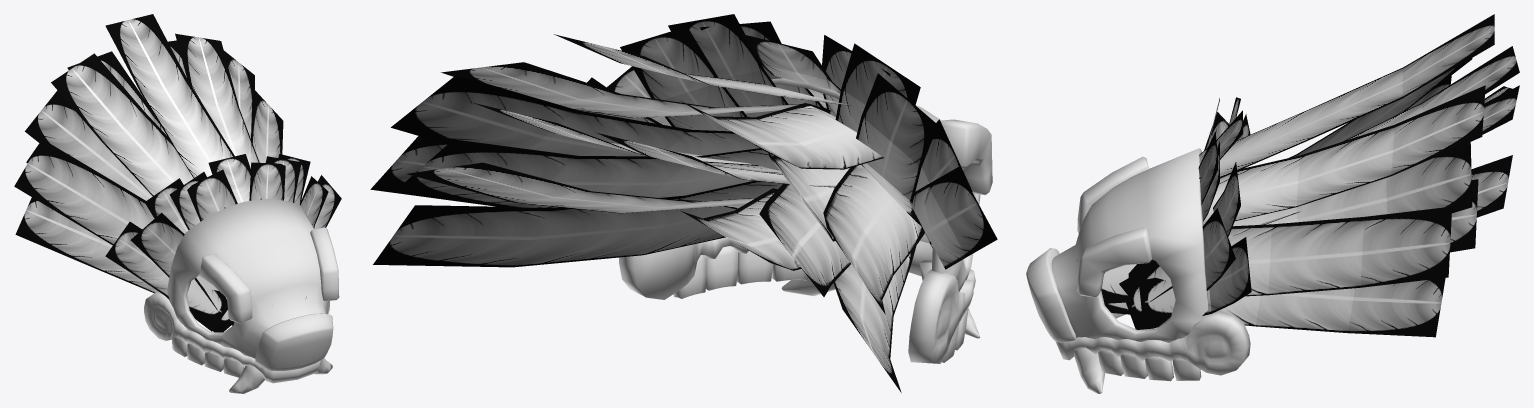
File: TEMP_Mask.fbx
3 views of the same model, side by side, from view 1: azimuth 30°, elevation 25°; view 2: azimuth 150°, elevation 25°; view 3: azimuth 270°, elevation 25° (orthographic). The views are drawn at different scales.
Visible parts, largest first — view 1: Mask_Base_low, FeatherBig.005, FeatherBig.007, FeatherBig.002, FeatherBig.006, FeatherBig.001, Feather.006, Noise_low, Eyebrow_low, Mouth_low, Feather.003, Feather.005 (+7 smaller); view 2: FeatherBig.001, FeatherBig.003, FeatherBig.006, FeatherBig.005, Feather.004, FeatherBig.004, FeatherBig.007, Mouth_low, Feather.002, Feather.006, FeatherBig.008, Feather.001 (+9 smaller); view 3: FeatherBig.007, Mask_Base_low, FeatherBig.005, FeatherBig.006, FeatherBig.001, FeatherBig.002, Mouth_low, Eyebrow_low, FeatherBig.008, Feather.006, Feather.003, Noise_low (+11 smaller).
Part boxes in pixels (x1=…): Mask_Base_low: x1=166, y1=199, x2=329, y2=358; FeatherBig.005: x1=51, y1=33, x2=259, y2=195; FeatherBig.007: x1=14, y1=88, x2=283, y2=245; FeatherBig.002: x1=105, y1=14, x2=234, y2=177; FeatherBig.006: x1=25, y1=49, x2=254, y2=200; FeatherBig.001: x1=15, y1=197, x2=306, y2=325; Feather.006: x1=105, y1=175, x2=341, y2=331; Noise_low: x1=255, y1=313, x2=333, y2=370; Eyebrow_low: x1=199, y1=227, x2=339, y2=323; Mouth_low: x1=144, y1=291, x2=329, y2=383; Feather.003: x1=130, y1=176, x2=328, y2=332; Feather.005: x1=187, y1=162, x2=285, y2=221; FeatherBig.001: x1=373, y1=180, x2=916, y2=392; FeatherBig.003: x1=393, y1=139, x2=850, y2=296; FeatherBig.006: x1=391, y1=76, x2=848, y2=241; FeatherBig.005: x1=441, y1=62, x2=883, y2=169; Feather.004: x1=620, y1=26, x2=937, y2=226; FeatherBig.004: x1=407, y1=162, x2=801, y2=270; FeatherBig.007: x1=370, y1=136, x2=924, y2=314; Mouth_low: x1=619, y1=237, x2=975, y2=363; Feather.002: x1=668, y1=14, x2=920, y2=132; Feather.006: x1=577, y1=77, x2=997, y2=269; FeatherBig.008: x1=474, y1=103, x2=835, y2=187; Feather.001: x1=741, y1=34, x2=840, y2=108; FeatherBig.007: x1=1101, y1=75, x2=1451, y2=303; Mask_Base_low: x1=1051, y1=148, x2=1209, y2=342; FeatherBig.005: x1=1106, y1=85, x2=1485, y2=271; FeatherBig.006: x1=1233, y1=58, x2=1472, y2=226; FeatherBig.001: x1=1077, y1=260, x2=1445, y2=337; FeatherBig.002: x1=1220, y1=14, x2=1494, y2=178; Mouth_low: x1=1055, y1=311, x2=1250, y2=375; Eyebrow_low: x1=1077, y1=156, x2=1151, y2=297; FeatherBig.008: x1=1258, y1=46, x2=1519, y2=224; Feather.006: x1=1138, y1=114, x2=1251, y2=329; Feather.003: x1=1119, y1=112, x2=1235, y2=329; Noise_low: x1=1026, y1=248, x2=1075, y2=342.
Bounding box in the file's own units: 387 × 338 × 455.
